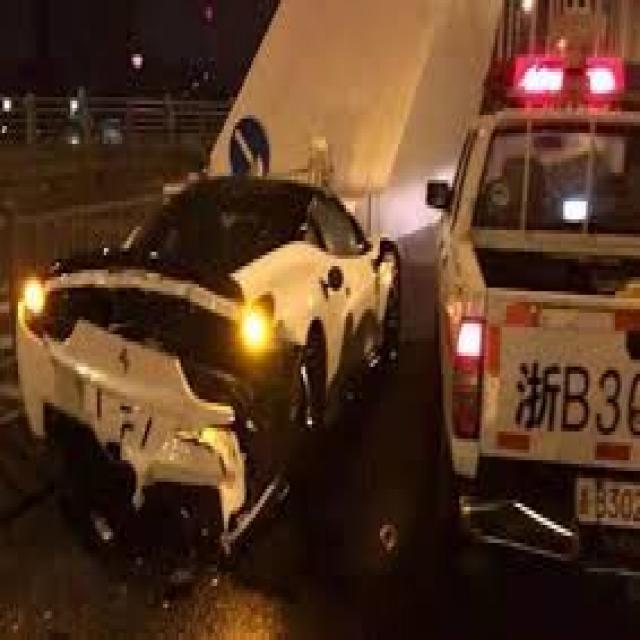moderate: (46, 173, 372, 557)
